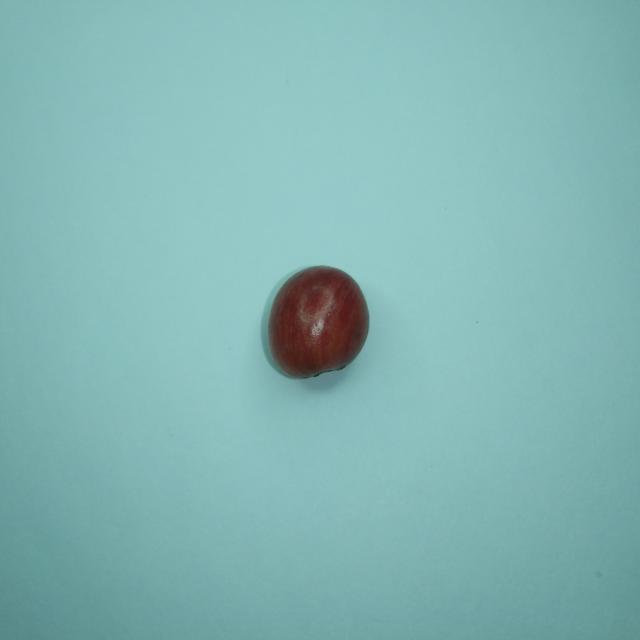Sano: (263, 266, 368, 378)
